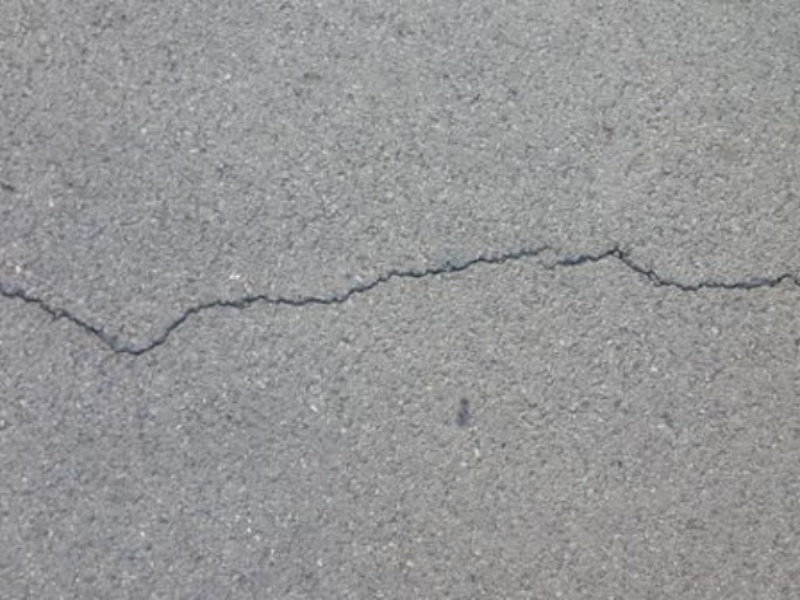crack: (5, 215, 800, 358)
